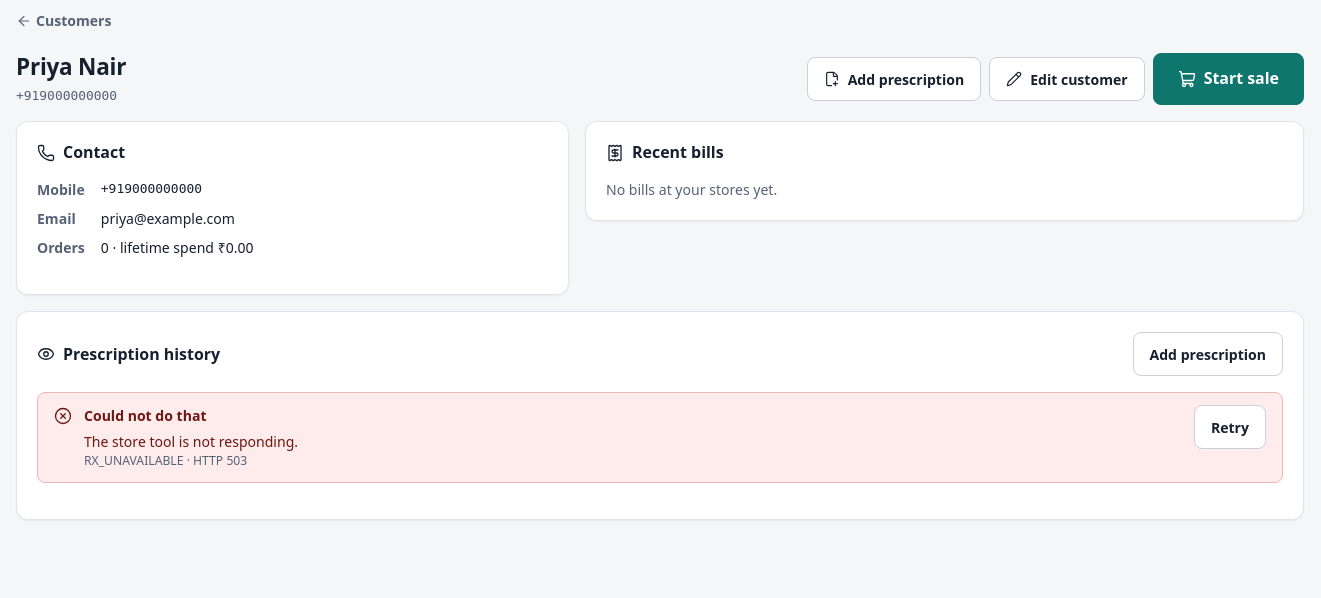
Test: customer profile › one failing section does not hide the others, and retries on its own
expect the text "The store tool is not responding." is shown: met, box [84,432,298,450]
expect the text "priya@example.com" is shown: met, box [101,209,235,228]
Click the button "Retry" at (1230, 427), box [1194,405,1266,449]
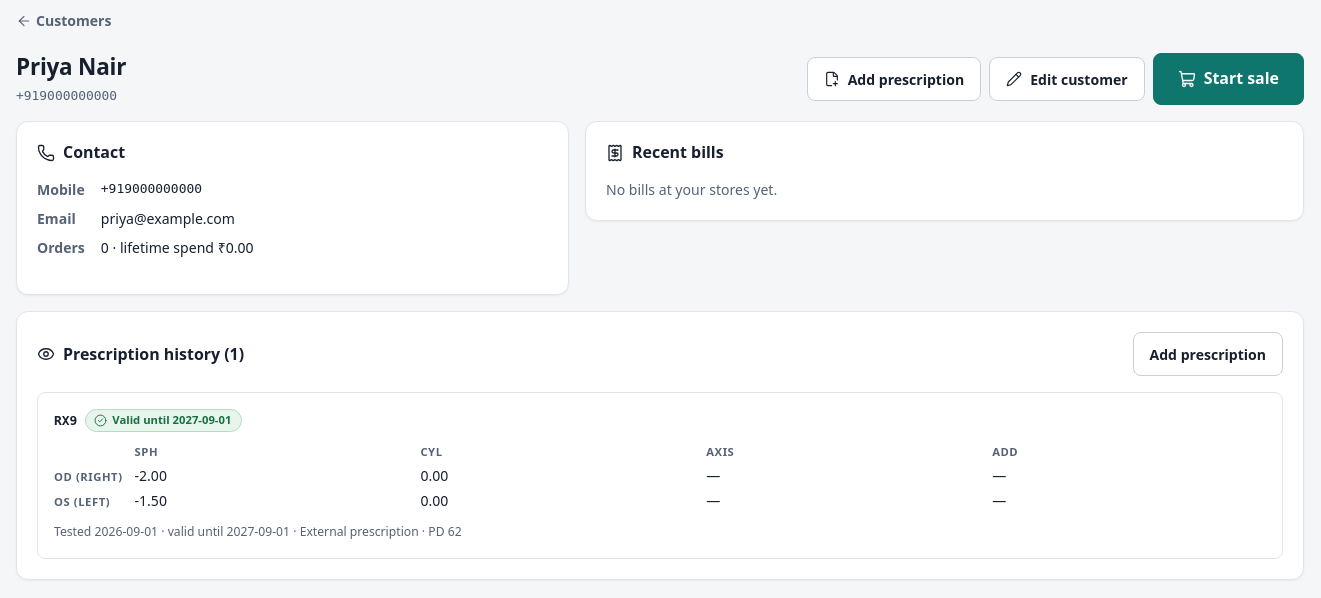
expect the element named "Prescription RX9" is shown: met, box [37,392,1283,559]
